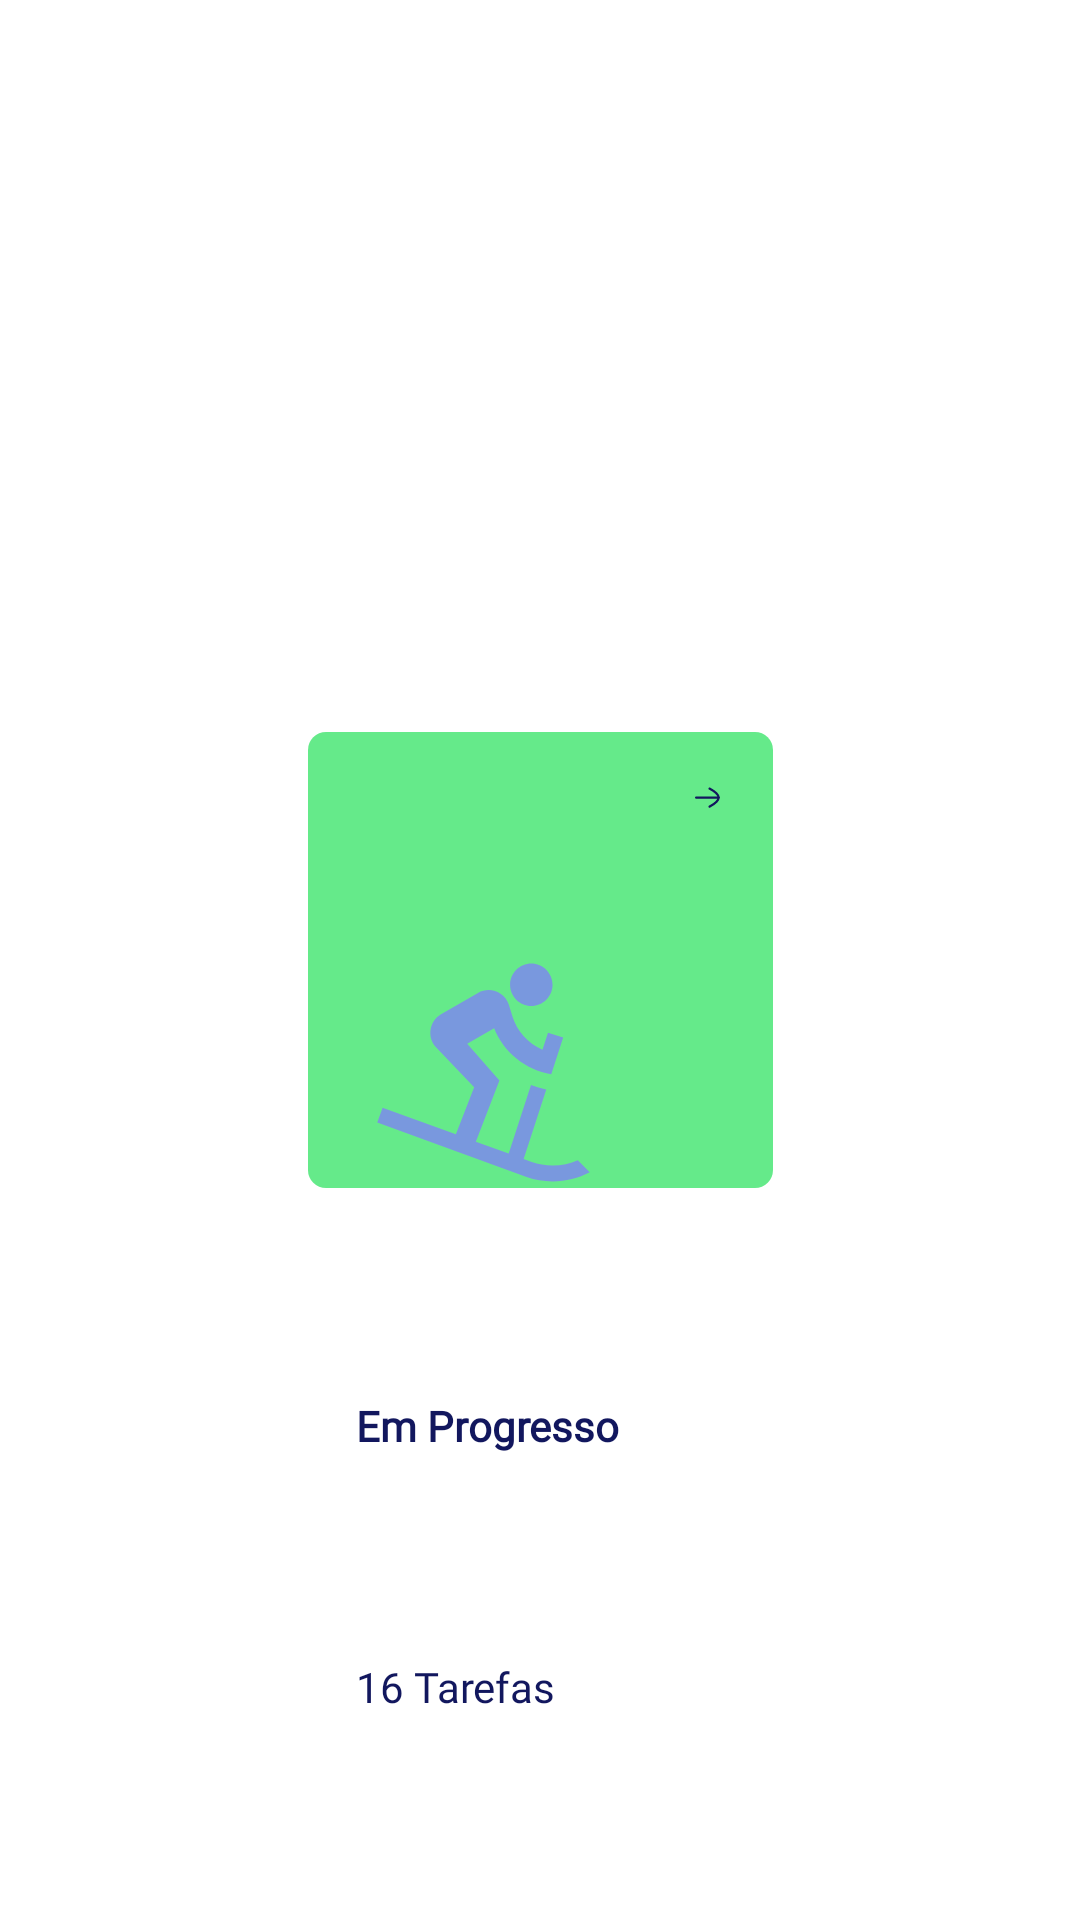

Icon bounding boxes for this 1080px x 1920px phone screenshot, format (x1, y1, x2, y2):
arrow right: (695, 787, 720, 808)
